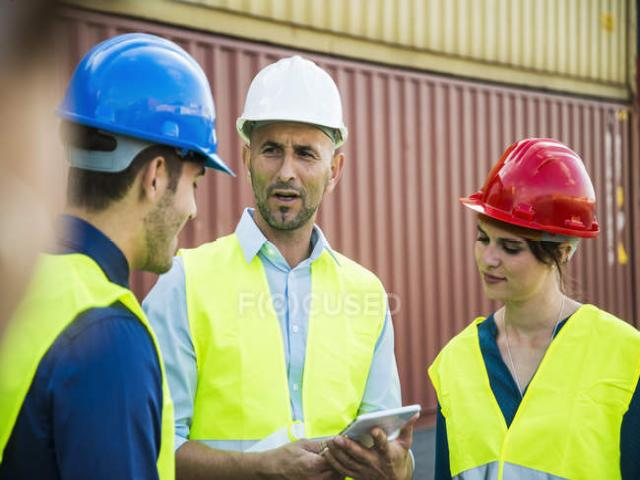Helmet: (47, 29, 235, 180), (452, 133, 605, 248), (229, 50, 348, 156)
